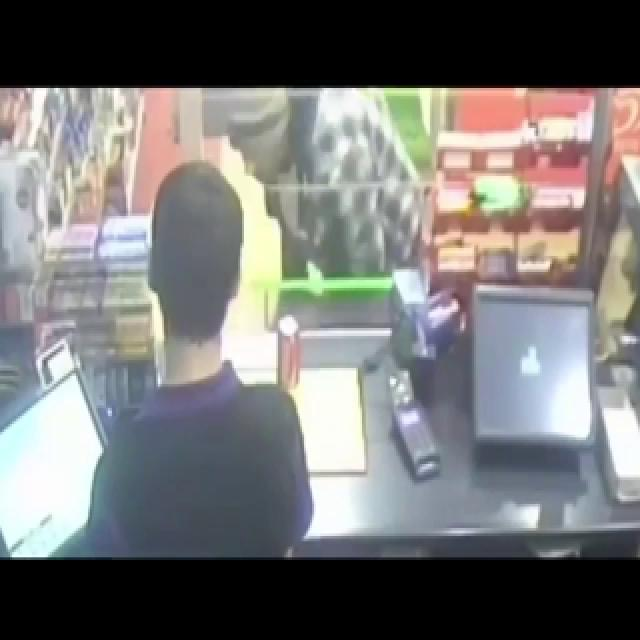robbery: (165, 103, 443, 466)
